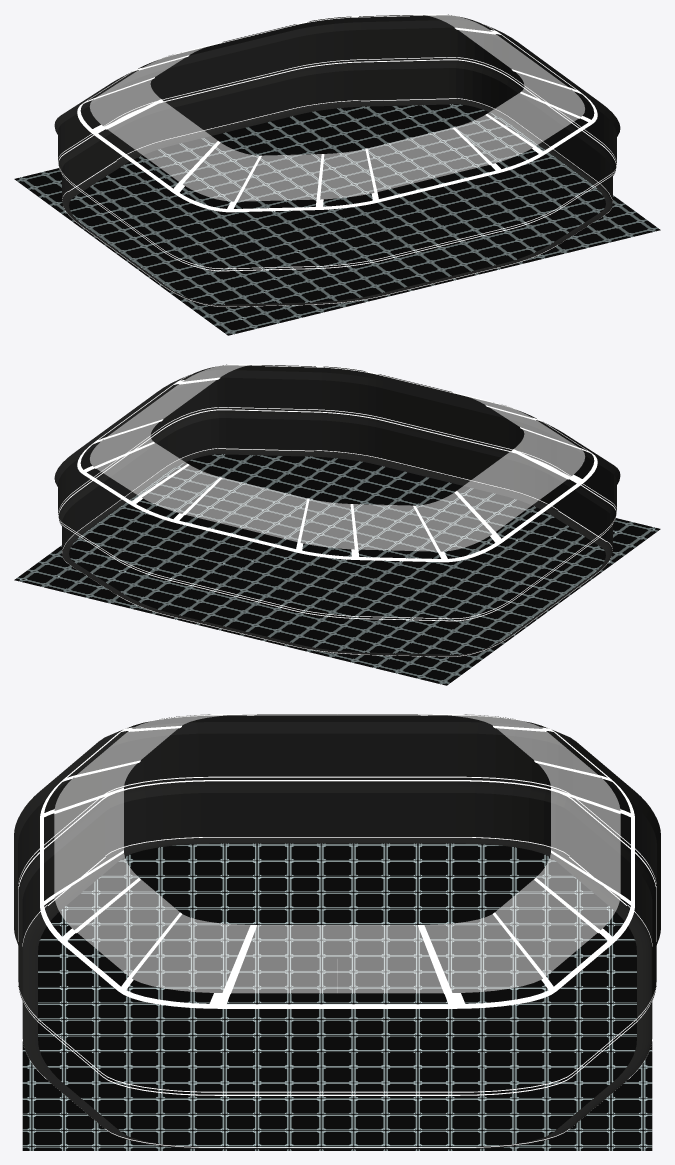
The model's file is arena.fbx.
The picture shows the model from 3 angles, top to bottom: view 1: azimuth 30°, elevation 25°; view 2: azimuth 150°, elevation 25°; view 3: azimuth 270°, elevation 25°; orthographic projection. The views are drawn at different scales.
Parts seen in each view (by area): view 1: ground, Plane, overheadLights, Plane.003, Plane.002, overheadLights.001, Plane.001; view 2: ground, Plane, overheadLights, Plane.003, Plane.002, overheadLights.001, Plane.001; view 3: ground, Plane, overheadLights, Plane.003, Plane.002, overheadLights.001, Plane.001.
Boxes of the visible parts, left/top/right/bottom form: ground: left=14, top=104, right=660, bottom=335; Plane: left=54, top=14, right=620, bottom=307; overheadLights: left=90, top=14, right=584, bottom=201; Plane.003: left=77, top=14, right=597, bottom=212; Plane.002: left=58, top=57, right=616, bottom=271; overheadLights.001: left=94, top=14, right=580, bottom=201; Plane.001: left=62, top=98, right=612, bottom=306; ground: left=14, top=454, right=660, bottom=685; Plane: left=54, top=364, right=620, bottom=657; overheadLights: left=90, top=364, right=584, bottom=551; Plane.003: left=77, top=364, right=597, bottom=562; Plane.002: left=58, top=407, right=616, bottom=621; overheadLights.001: left=94, top=364, right=580, bottom=551; Plane.001: left=62, top=448, right=612, bottom=656; ground: left=22, top=843, right=652, bottom=1150; Plane: left=14, top=714, right=660, bottom=1149; overheadLights: left=54, top=714, right=620, bottom=993; Plane.003: left=40, top=714, right=634, bottom=1008; Plane.002: left=18, top=776, right=656, bottom=1095; overheadLights.001: left=54, top=714, right=620, bottom=993; Plane.001: left=22, top=837, right=652, bottom=1147.
Size of the model in its own units: 1438 by 370 by 1233.
